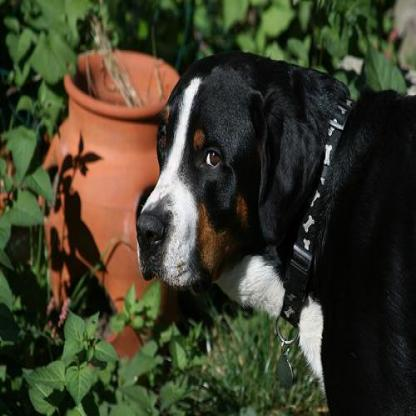Greater_Swiss_Mountain_dog: (134, 53, 414, 414)
